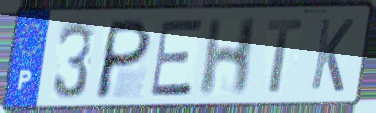3: (53, 17, 94, 102)
E: (148, 16, 205, 100)
H: (195, 15, 262, 99)
K: (308, 16, 357, 95)
P: (91, 16, 155, 102)
T: (265, 16, 306, 95)
